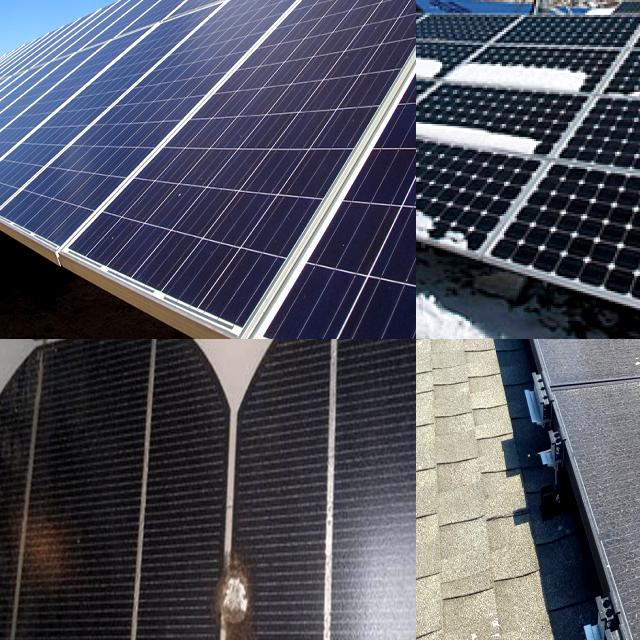crack: (202, 29, 348, 259), (80, 68, 188, 194), (369, 154, 416, 339)
dust: (536, 339, 640, 384), (512, 339, 640, 364), (483, 339, 615, 361), (500, 339, 640, 359)
panel: (442, 44, 592, 120), (416, 167, 502, 266), (416, 100, 545, 161), (416, 61, 467, 137), (416, 33, 468, 85), (416, 16, 444, 107), (592, 75, 640, 111), (416, 160, 451, 190)
shadow: (207, 523, 281, 640), (5, 498, 70, 608)
